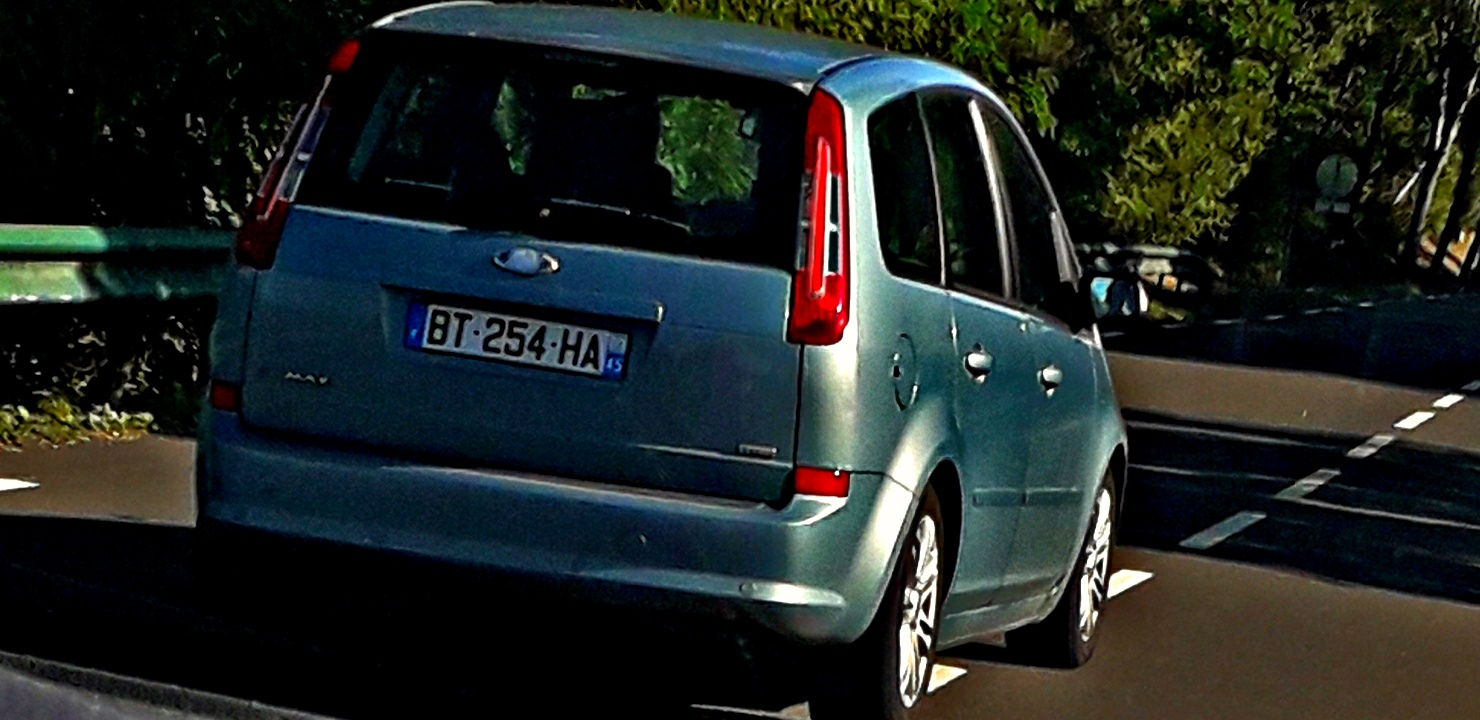licence plate: (399, 295, 635, 385)
